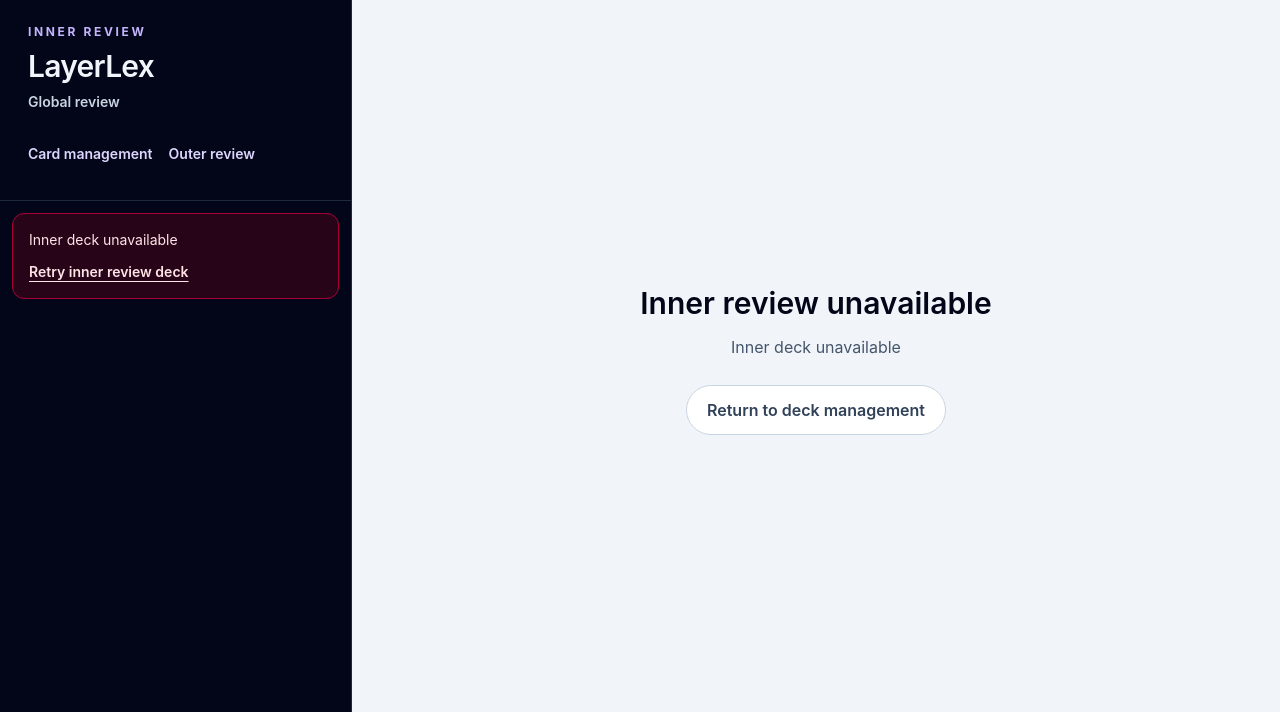
Test case: inner review deck states and routing › shows a deck error and retries only the ordered inner deck
Expected: the message shows "Inner deck unavailable", x1=29 y1=231 x2=178 y2=248
Click the button "Retry inner review deck": click(109, 272) x1=29 y1=262 x2=188 y2=282
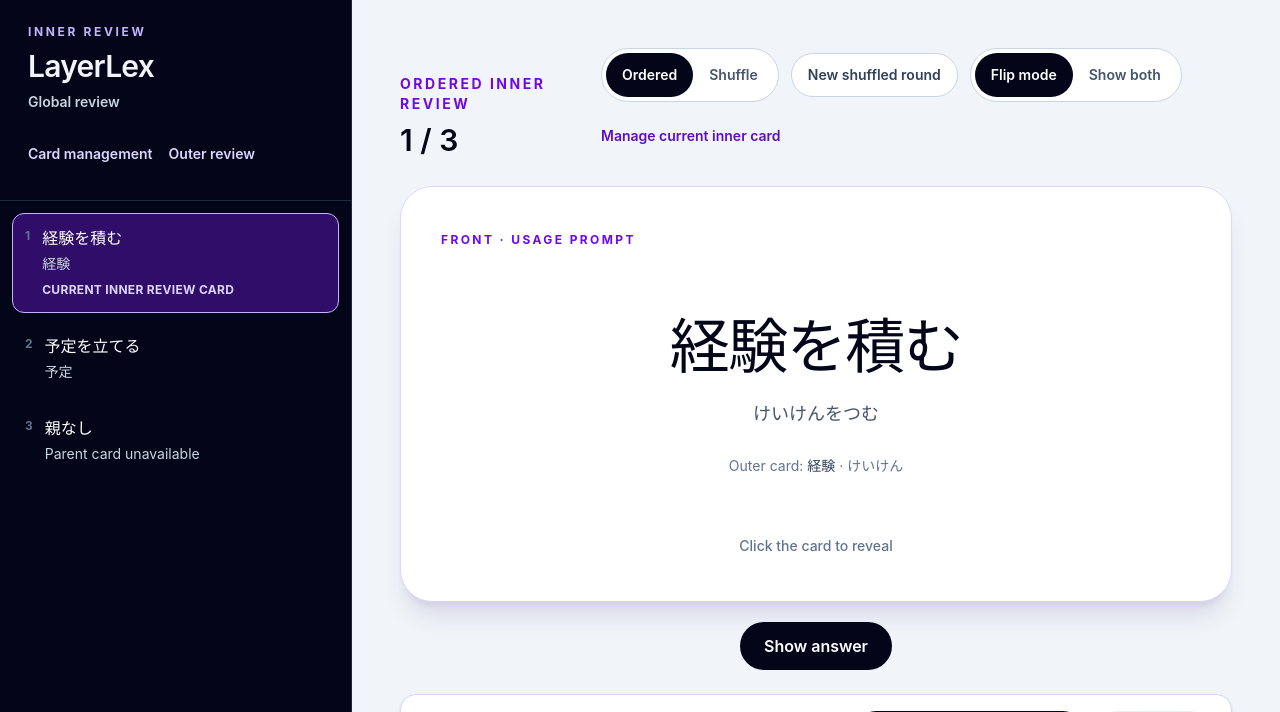
Expected: the text named "Inner review progress" reads "1 / 3", x1=400 y1=122 x2=458 y2=158
